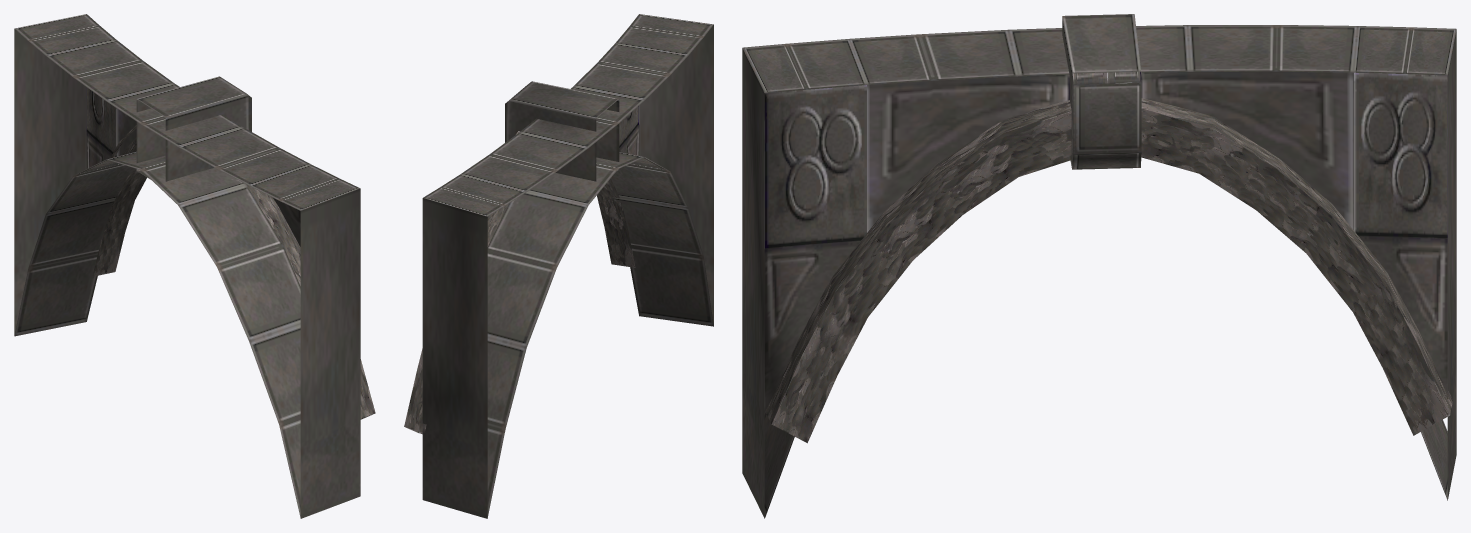
Rendered from CH09_SMAUG_PLAYSURFACE_LAIR37.fbx.
The picture shows the model from 3 angles, left to right: view 1: azimuth 30°, elevation 25°; view 2: azimuth 150°, elevation 25°; view 3: azimuth 270°, elevation 25°; orthographic projection. The views are drawn at different scales.
Visible parts, largest first — view 1: CH09_SMAUG_PLAYSURFACE_LAIR37; view 2: CH09_SMAUG_PLAYSURFACE_LAIR37; view 3: CH09_SMAUG_PLAYSURFACE_LAIR37.
Boxes of the visible parts, x1,y1,x2,y2 form: CH09_SMAUG_PLAYSURFACE_LAIR37: (14,14,375,518); CH09_SMAUG_PLAYSURFACE_LAIR37: (404,14,713,518); CH09_SMAUG_PLAYSURFACE_LAIR37: (742,14,1456,518).
Bounding box in the file's own units: 30937 × 79711 × 116199.
Materials: 3 (3 with a texture image).
